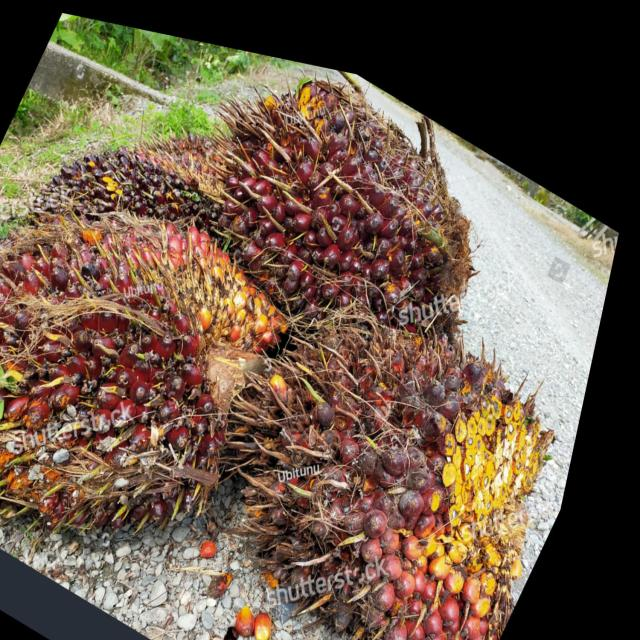Ripefruit: (191, 232, 609, 640), (0, 112, 333, 616), (178, 37, 520, 350), (42, 91, 226, 263)
